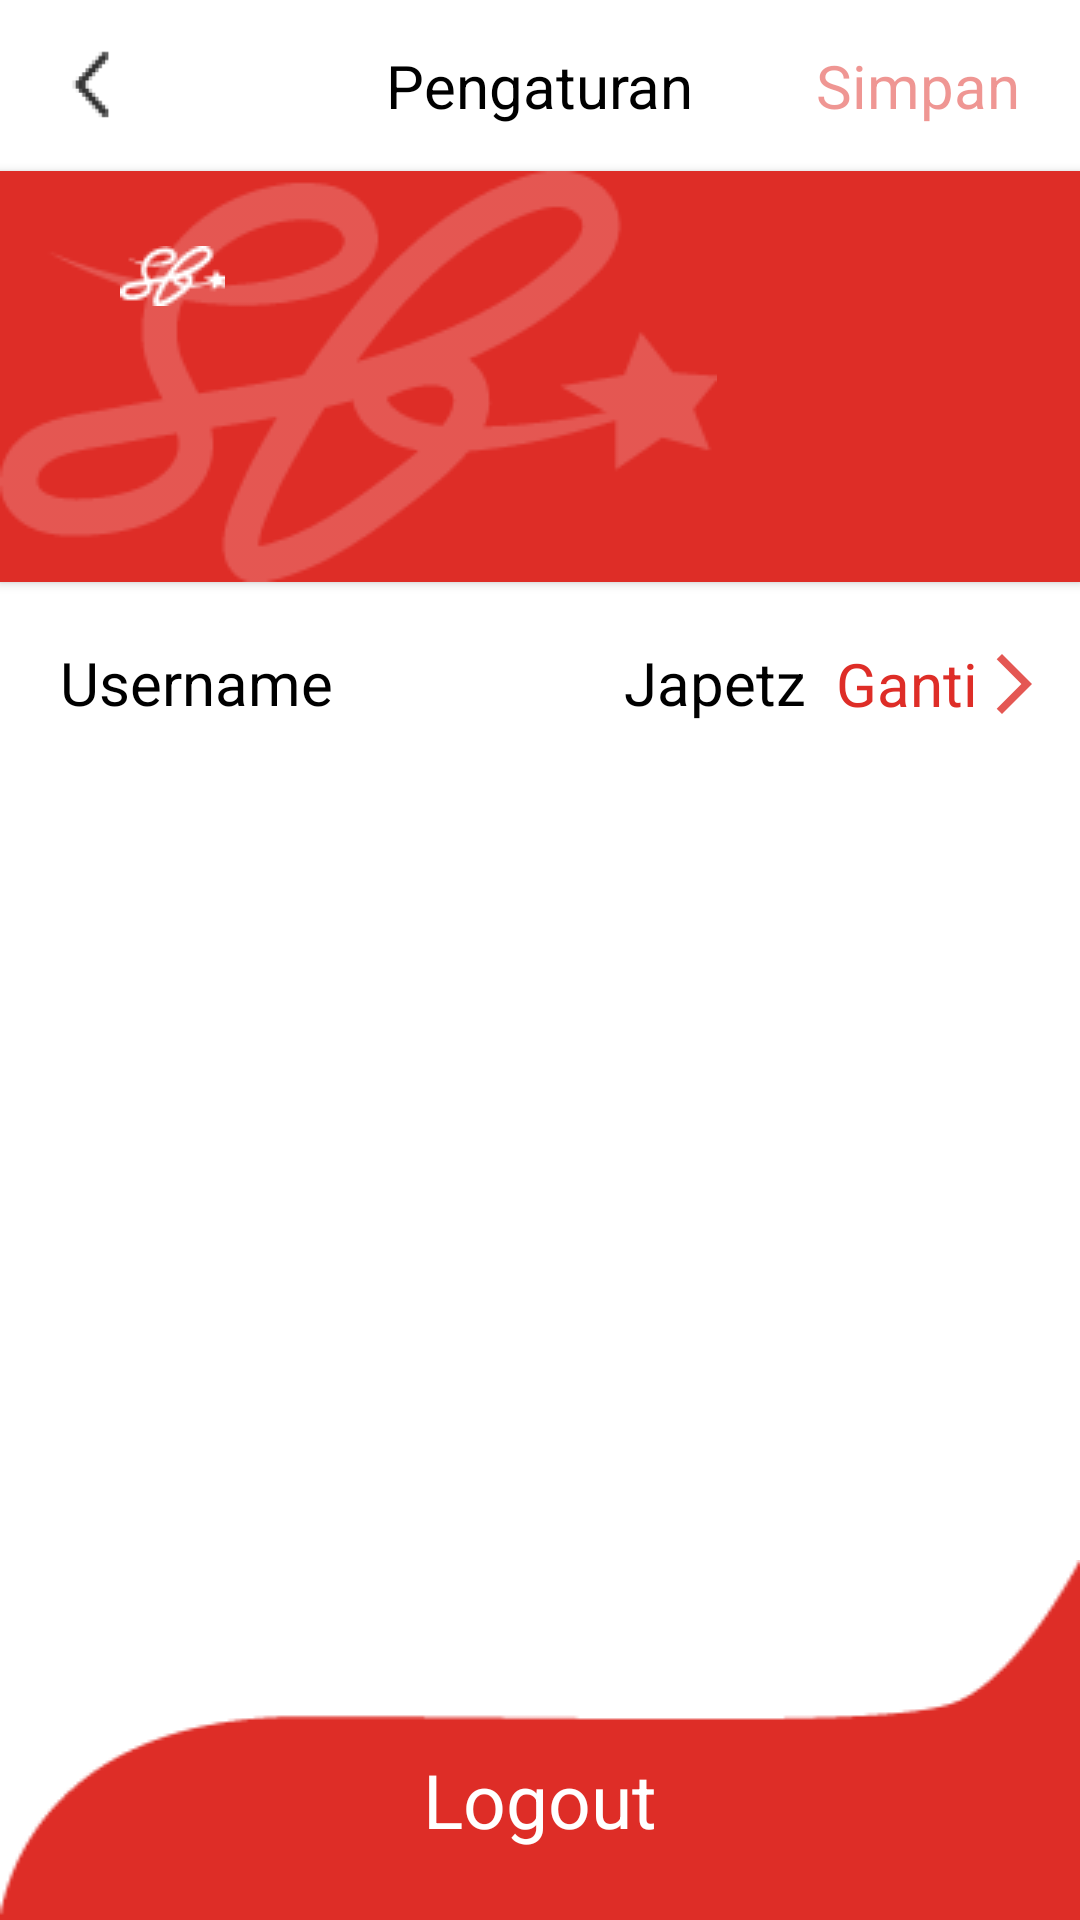

Screen size 1080px×1920px. Icon name, then its center in pixels as point (x, y):
arrow right: point (1014, 684)
back setting: point (91, 84)
